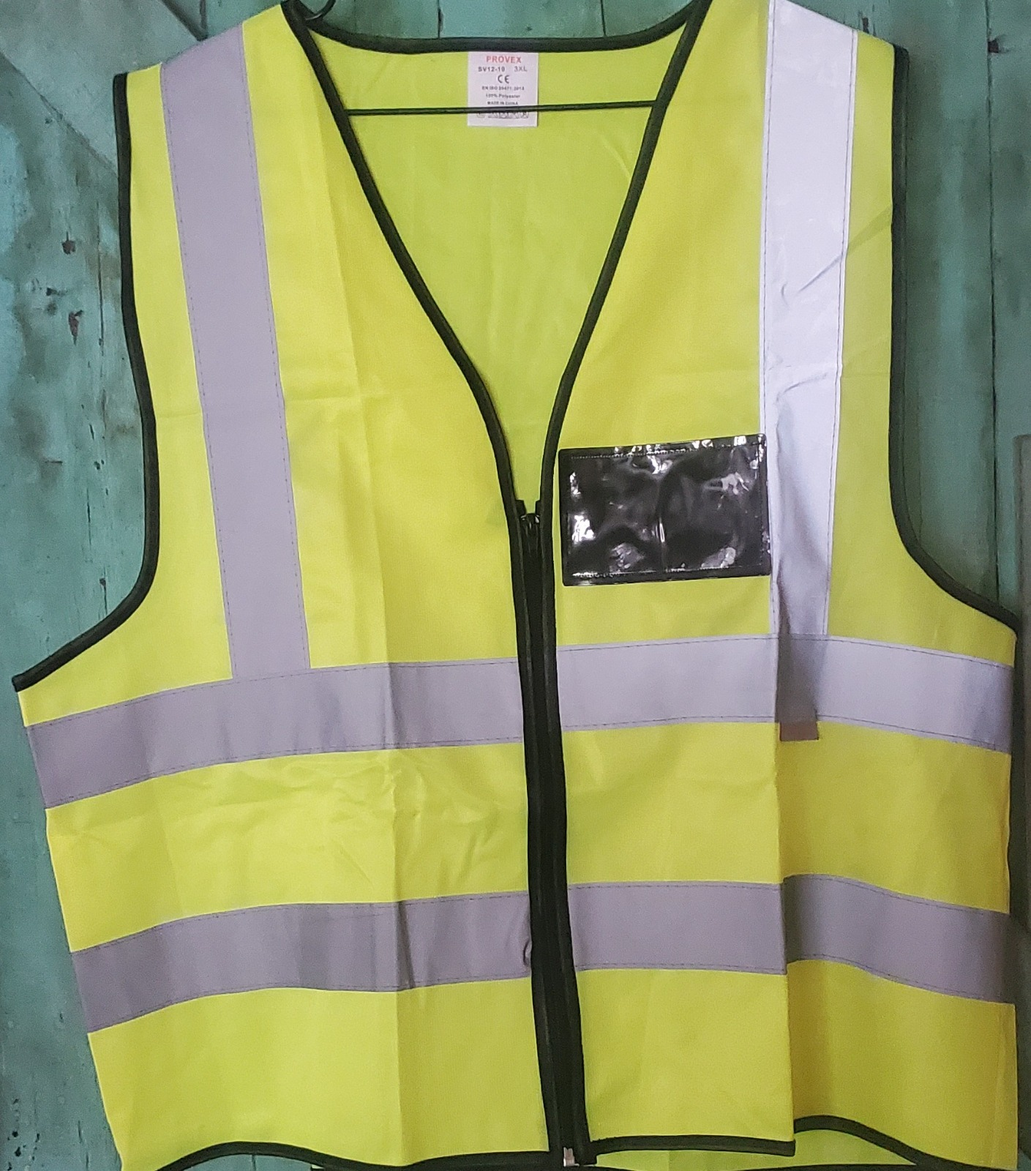vest: (29, 10, 1031, 1171)
